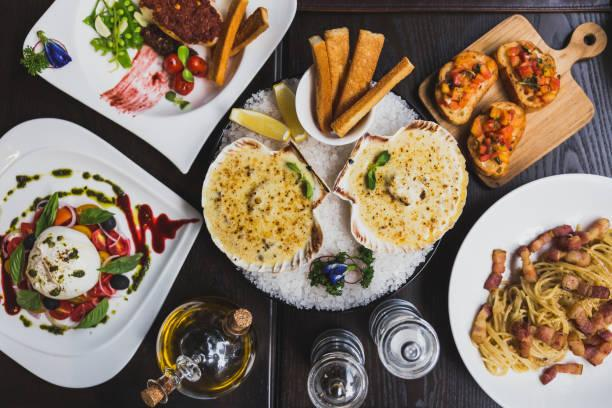Braised Crucian Carp: (207, 75, 466, 314), (21, 0, 292, 173), (1, 141, 183, 388), (445, 175, 610, 408), (417, 13, 603, 188)
